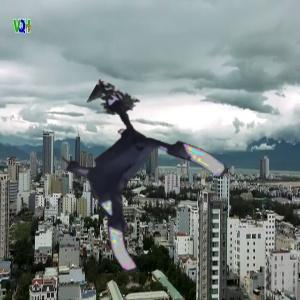drone: (52, 107, 211, 266)
